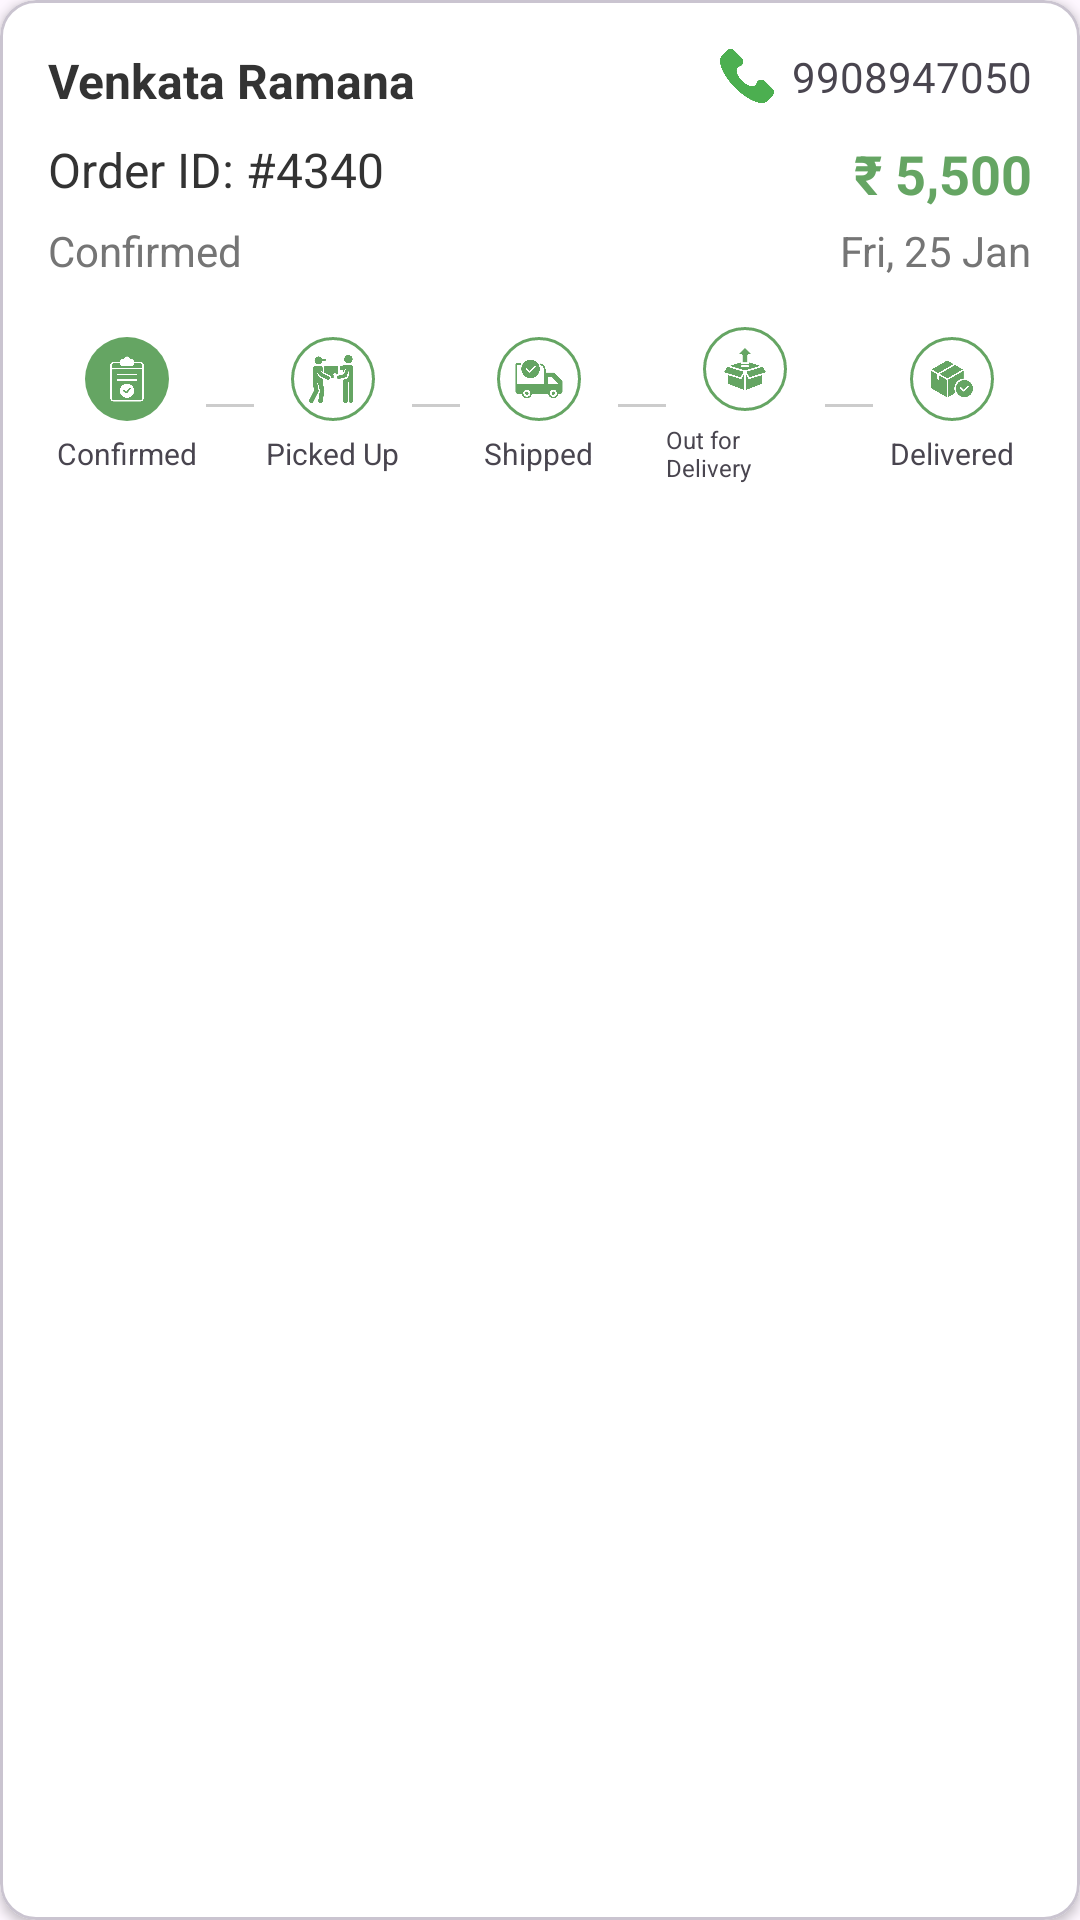

Icons on this 1080 × 1920 Android screen, each with the point to tap as point (x, y):
deliverymangreen: point (333, 379)
outoftheboxgreen: point (745, 369)
parcelgreen: point (952, 379)
phonecall: point (747, 76)
transportgreen: point (539, 379)
